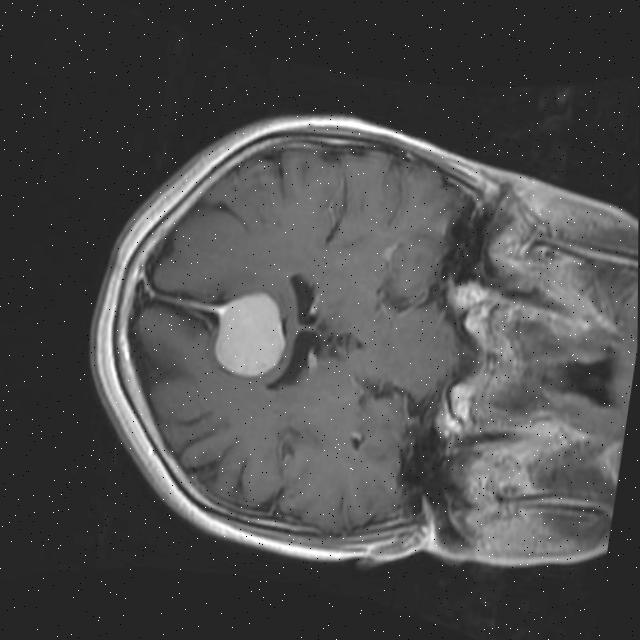Meningioma: (198, 283, 295, 385)
